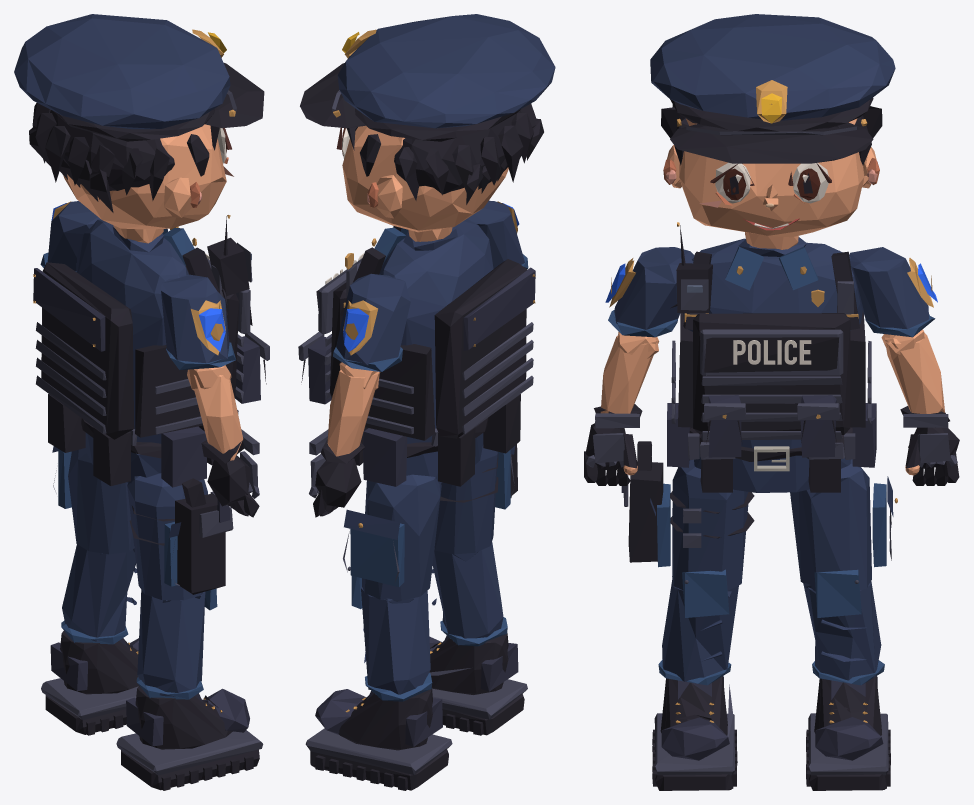
File: npc.police-officer.lod1.glb
3 views of the same model, side by side, from view 1: azimuth 30°, elevation 25°; view 2: azimuth 150°, elevation 25°; view 3: azimuth 270°, elevation 25° (orthographic).
Parts seen in each view (by area): view 1: head, torso, footR, legR, footL, hip, shinR, shinL, armR, legL, foreArmR, handR (+1 smaller); view 2: head, torso, footL, legL, footR, hip, shinL, armL, legR, shinR, foreArmL, handL (+1 smaller); view 3: head, torso, legR, hip, legL, footR, footL, shinR, shinL, armL, armR, handR (+3 smaller).
Part boxes in pixels (x1=…): head: x1=14, y1=14, x2=264, y2=243; torso: x1=33, y1=215, x2=269, y2=443; footR: x1=116, y1=686, x2=263, y2=790; legR: x1=127, y1=473, x2=233, y2=600; footL: x1=41, y1=631, x2=139, y2=735; hip: x1=48, y1=394, x2=238, y2=487; shinR: x1=136, y1=588, x2=217, y2=699; shinL: x1=61, y1=544, x2=137, y2=644; armR: x1=161, y1=274, x2=235, y2=370; legL: x1=52, y1=446, x2=133, y2=554; foreArmR: x1=187, y1=365, x2=243, y2=460; handR: x1=201, y1=429, x2=259, y2=517; head: x1=300, y1=14, x2=555, y2=241; torso: x1=298, y1=219, x2=535, y2=443; footL: x1=305, y1=688, x2=452, y2=790; legL: x1=343, y1=474, x2=441, y2=601; footR: x1=429, y1=633, x2=527, y2=735; hip: x1=353, y1=394, x2=520, y2=486; shinL: x1=347, y1=566, x2=432, y2=701; armL: x1=333, y1=273, x2=410, y2=371; legR: x1=434, y1=444, x2=517, y2=554; shinR: x1=431, y1=542, x2=507, y2=646; foreArmL: x1=327, y1=362, x2=380, y2=456; handL: x1=309, y1=429, x2=364, y2=517; head: x1=650, y1=14, x2=895, y2=249; torso: x1=670, y1=222, x2=871, y2=457; legR: x1=617, y1=441, x2=754, y2=590; hip: x1=667, y1=403, x2=876, y2=492; legL: x1=790, y1=459, x2=897, y2=591; footR: x1=652, y1=676, x2=737, y2=790; footL: x1=806, y1=676, x2=890, y2=790; shinR: x1=658, y1=569, x2=738, y2=685; shinL: x1=803, y1=569, x2=884, y2=685; armL: x1=849, y1=247, x2=937, y2=337; armR: x1=605, y1=247, x2=694, y2=337; handR: x1=584, y1=404, x2=642, y2=485.
Size of the model in its own units: 0.4493 by 1.41 by 0.6754.
